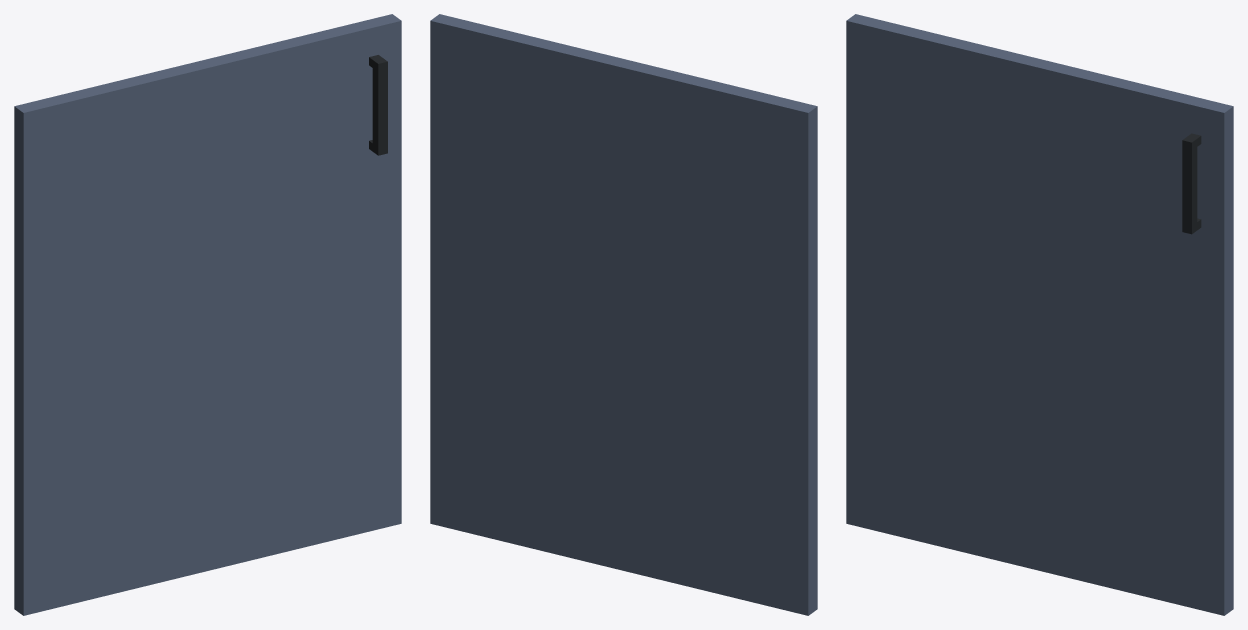
The model's file is Door1_C4_02.fbx.
3 renders of one model, left to right at view 1: azimuth 30°, elevation 25°; view 2: azimuth 150°, elevation 25°; view 3: azimuth 330°, elevation 25°, orthographic.
Visible parts, largest first — view 1: Door1_C4_02; view 2: Door1_C4_02; view 3: Door1_C4_02.
Part boxes in pixels (box(x1,y1,x2,y2)): Door1_C4_02: box(14, 14, 401, 615); Door1_C4_02: box(430, 14, 817, 615); Door1_C4_02: box(846, 14, 1233, 615).
Size of the model in its own units: 59 by 75 by 5.03.
